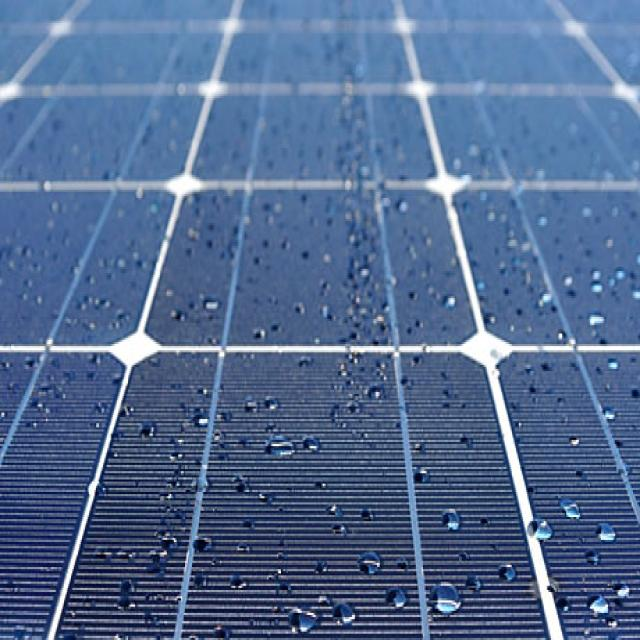dust-solar-panel: (1, 4, 640, 637)
